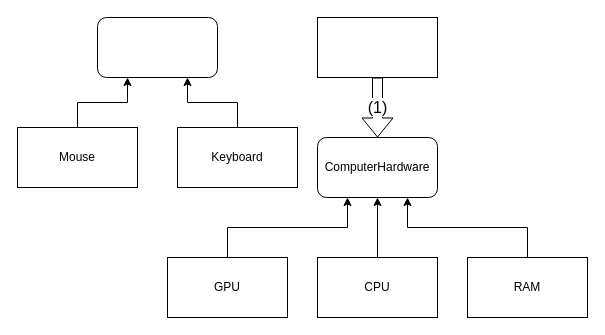
This 605x335 diagram has some shape labels left out. Each missing label, with the centre of its shape:
"Computer" belongs at pixel 377 47.
"Peripherals" belongs at pixel 157 47.
